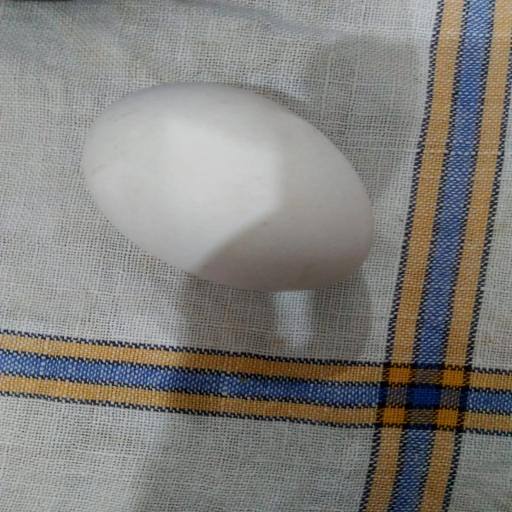telur: (70, 79, 387, 292)
